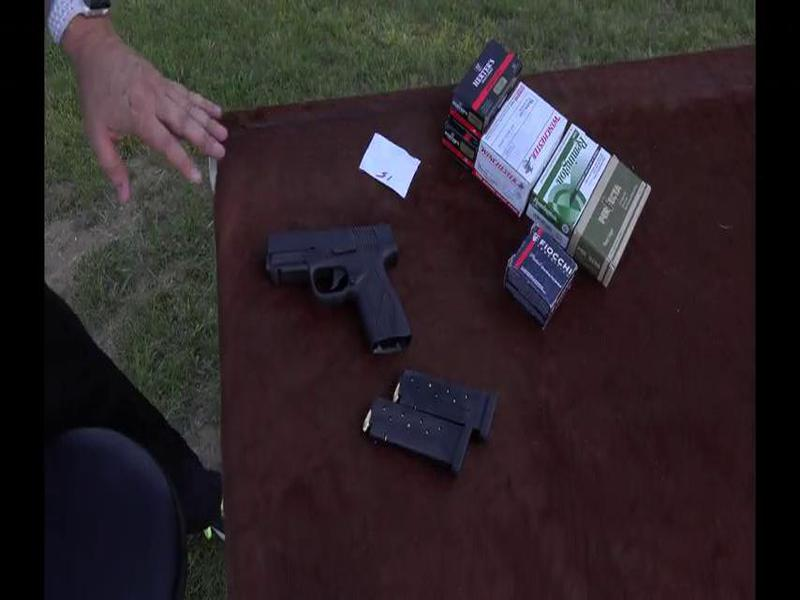Pistola: (254, 214, 425, 368)
